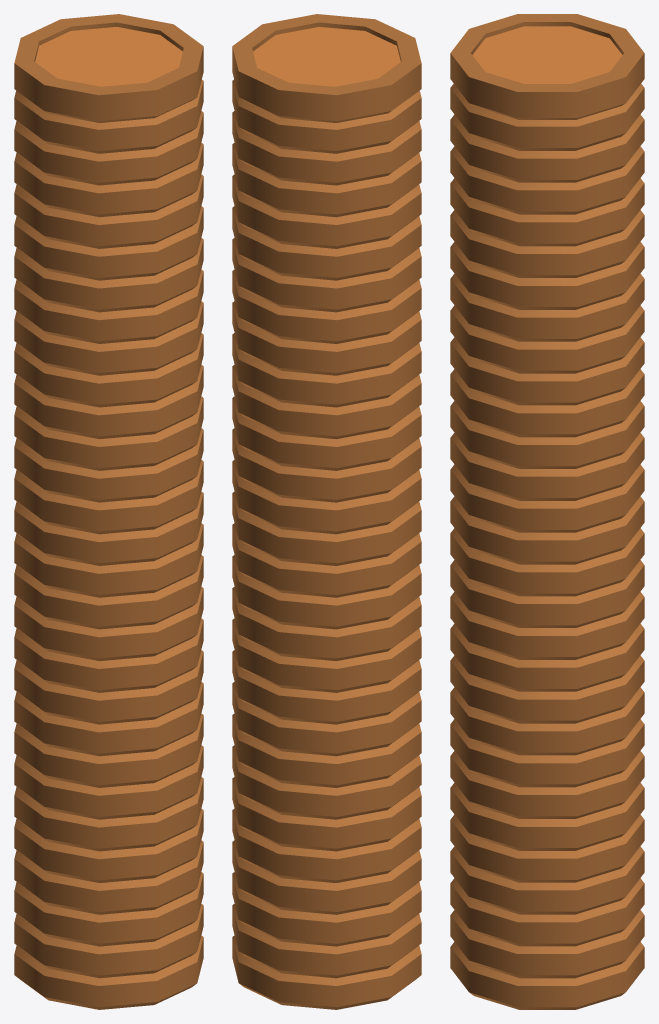
Rendered from Coin_Tower_11.fbx.
The picture shows the model from 3 angles, left to right: view 1: azimuth 30°, elevation 25°; view 2: azimuth 150°, elevation 25°; view 3: azimuth 270°, elevation 25°; orthographic projection.
Parts seen in each view (by area): view 1: Coin_Tower_11; view 2: Coin_Tower_11; view 3: Coin_Tower_11.
Part boxes in pixels (x1=…): Coin_Tower_11: x1=14, y1=14, x2=203, y2=1009; Coin_Tower_11: x1=232, y1=14, x2=421, y2=1009; Coin_Tower_11: x1=450, y1=14, x2=644, y2=1009.
Size of the model in its own units: 0.0413 by 0.2274 by 0.0435.
